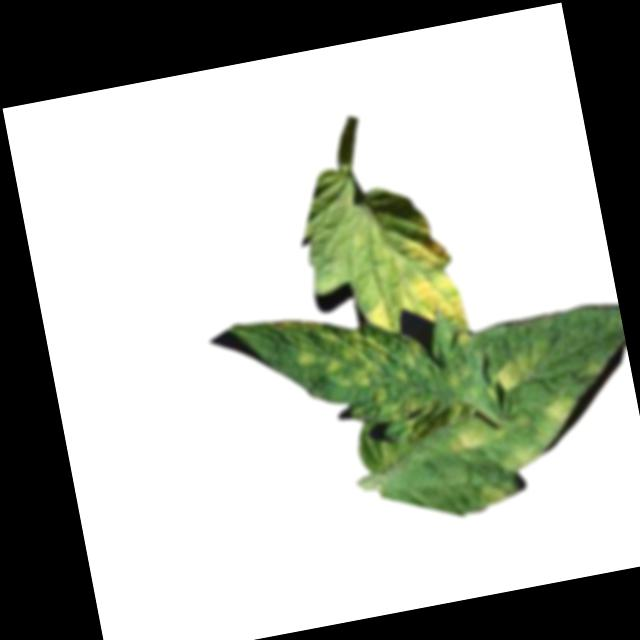Leaf_Mold: (277, 293, 443, 437), (348, 212, 475, 345), (489, 341, 550, 398), (531, 391, 581, 447), (445, 418, 500, 456), (472, 472, 520, 512), (453, 327, 473, 344)
